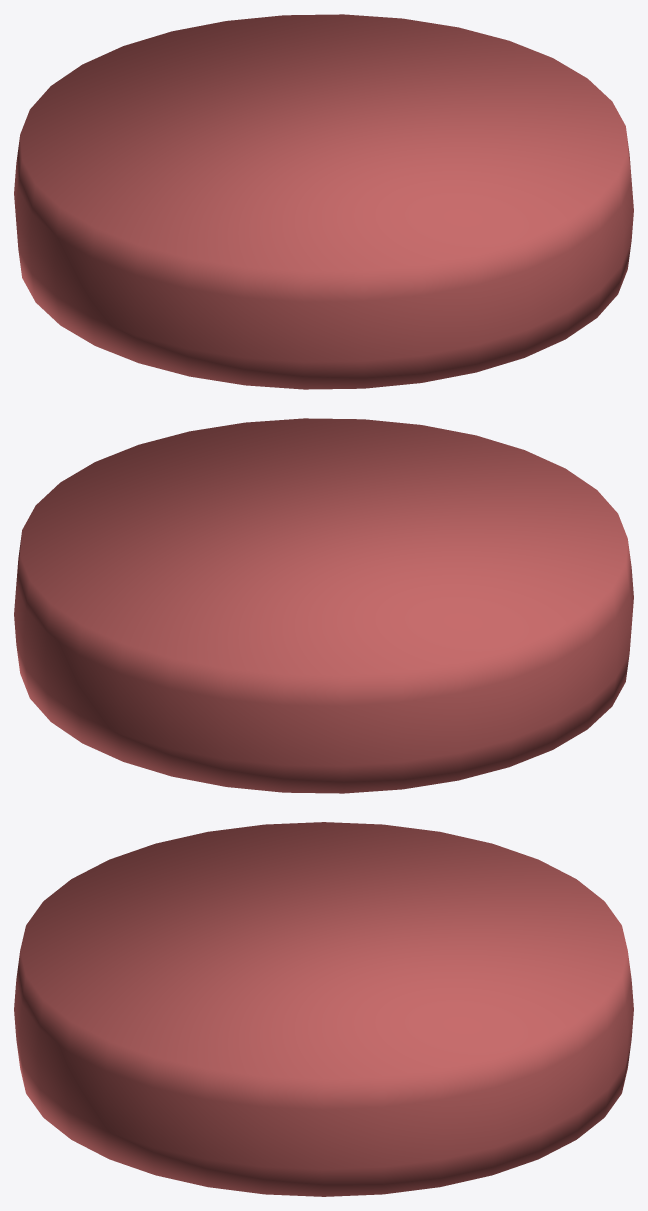
The model's file is RawMeat.fbx.
The picture shows the model from 3 angles, top to bottom: view 1: azimuth 30°, elevation 25°; view 2: azimuth 150°, elevation 25°; view 3: azimuth 270°, elevation 25°; orthographic projection.
Visible parts, largest first — view 1: RawMeat; view 2: RawMeat; view 3: RawMeat.
Part boxes in pixels (left/top/right/bottom): RawMeat: left=14, top=14, right=633, bottom=389; RawMeat: left=14, top=418, right=633, bottom=793; RawMeat: left=14, top=822, right=633, bottom=1196.
Size of the model in its own units: 61.61 by 12.95 by 61.61.
